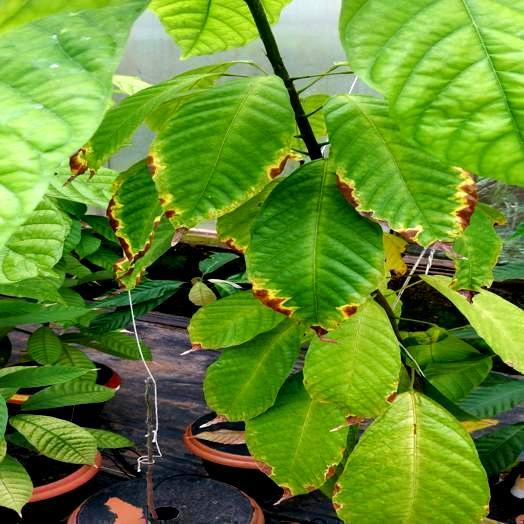Potassium: (148, 75, 294, 244), (246, 160, 384, 332), (324, 95, 476, 246), (333, 391, 487, 523), (70, 71, 218, 174), (246, 372, 348, 496), (303, 300, 399, 424), (182, 291, 283, 354), (107, 160, 162, 268), (217, 178, 282, 252)
